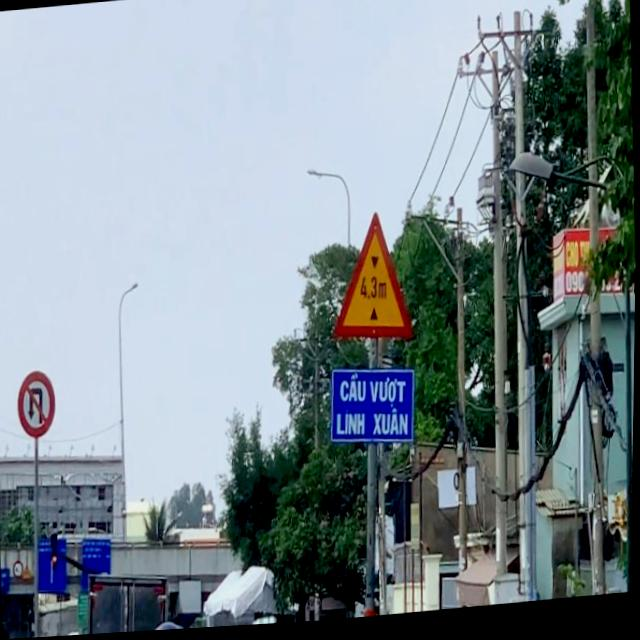Cam quay dau xe: (12, 363, 62, 443)
Chieu cao an toan: (326, 211, 418, 352)
